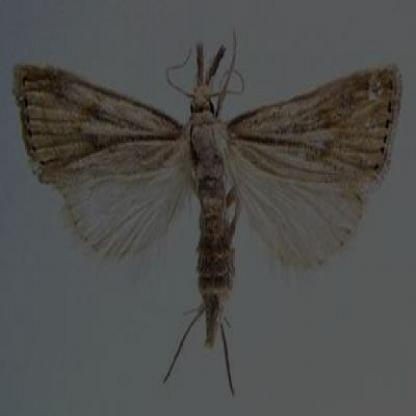stem-borer: (13, 25, 404, 398)
